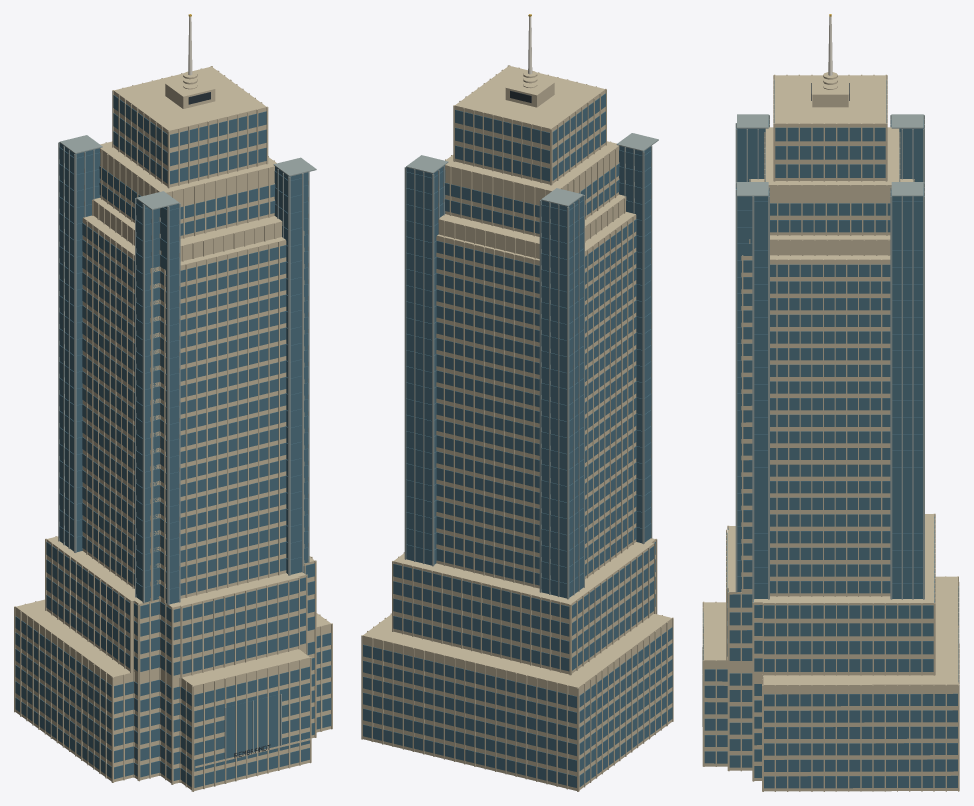
File: rembrandt-tower.glb
3 renders of one model, left to right at view 1: azimuth 30°, elevation 25°; view 2: azimuth 150°, elevation 25°; view 3: azimuth 270°, elevation 25°, orthographic. The views are drawn at different scales.
Parts seen in each view (by area): view 1: rembrandt-tower; view 2: rembrandt-tower; view 3: rembrandt-tower.
Boxes of the visible parts, x1,y1,x2,y2 form: rembrandt-tower: (14, 14, 332, 791); rembrandt-tower: (361, 14, 673, 791); rembrandt-tower: (702, 14, 959, 791).
Bounding box in the file's own units: 48.64 × 150 × 48.38.
